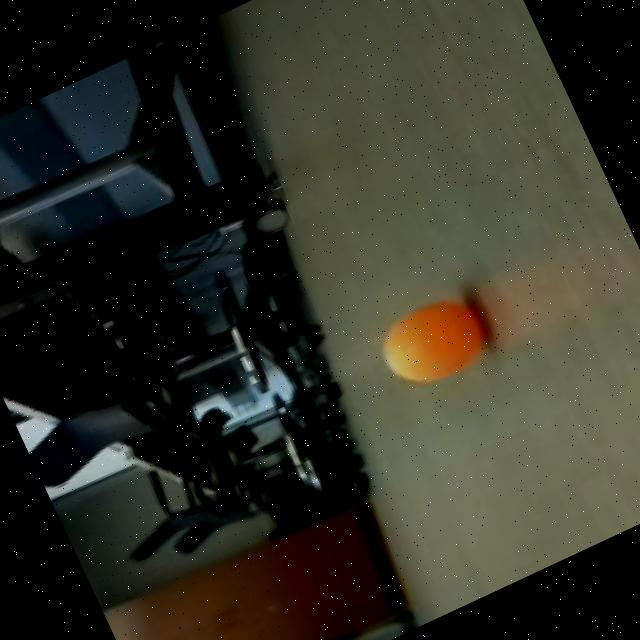ping-pong-ball: (364, 279, 504, 405)
